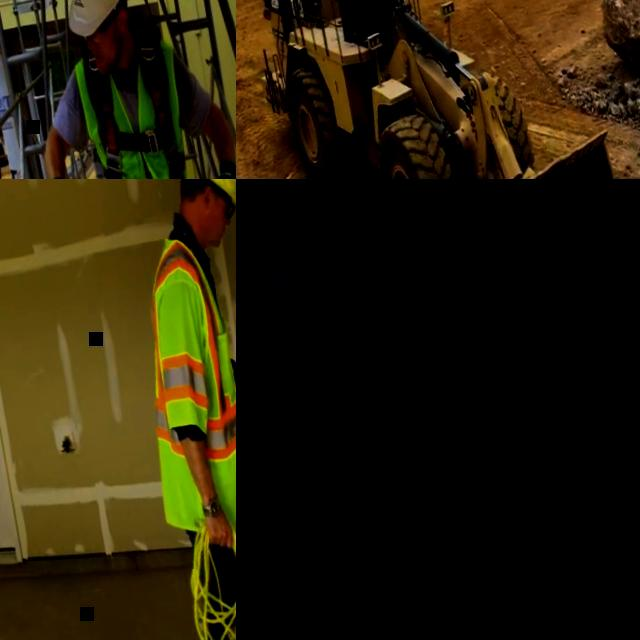helmet: (171, 179, 236, 215)
machinery: (236, 0, 640, 179)
no_helmet: (51, 0, 139, 41)
no_mask: (90, 38, 120, 74)
no_vest: (70, 39, 208, 179)
person: (100, 179, 236, 640), (4, 0, 236, 179)
vest: (119, 229, 236, 496)
